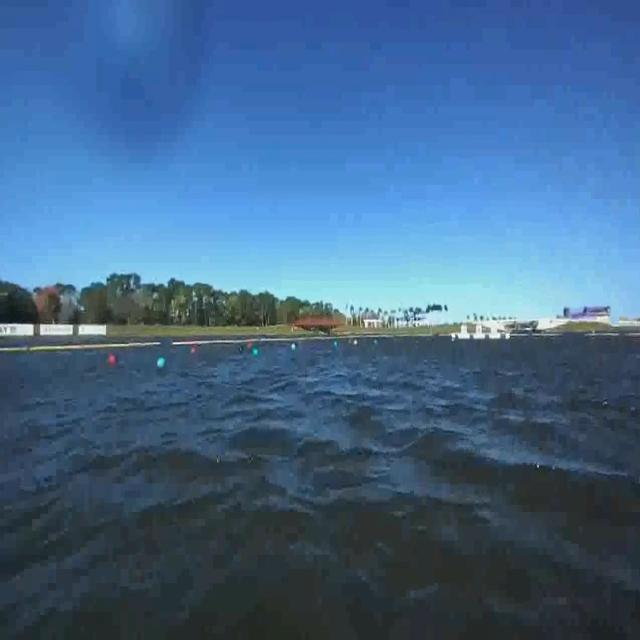green-buoy: (158, 356, 168, 368)
red-buoy: (105, 350, 117, 367)
